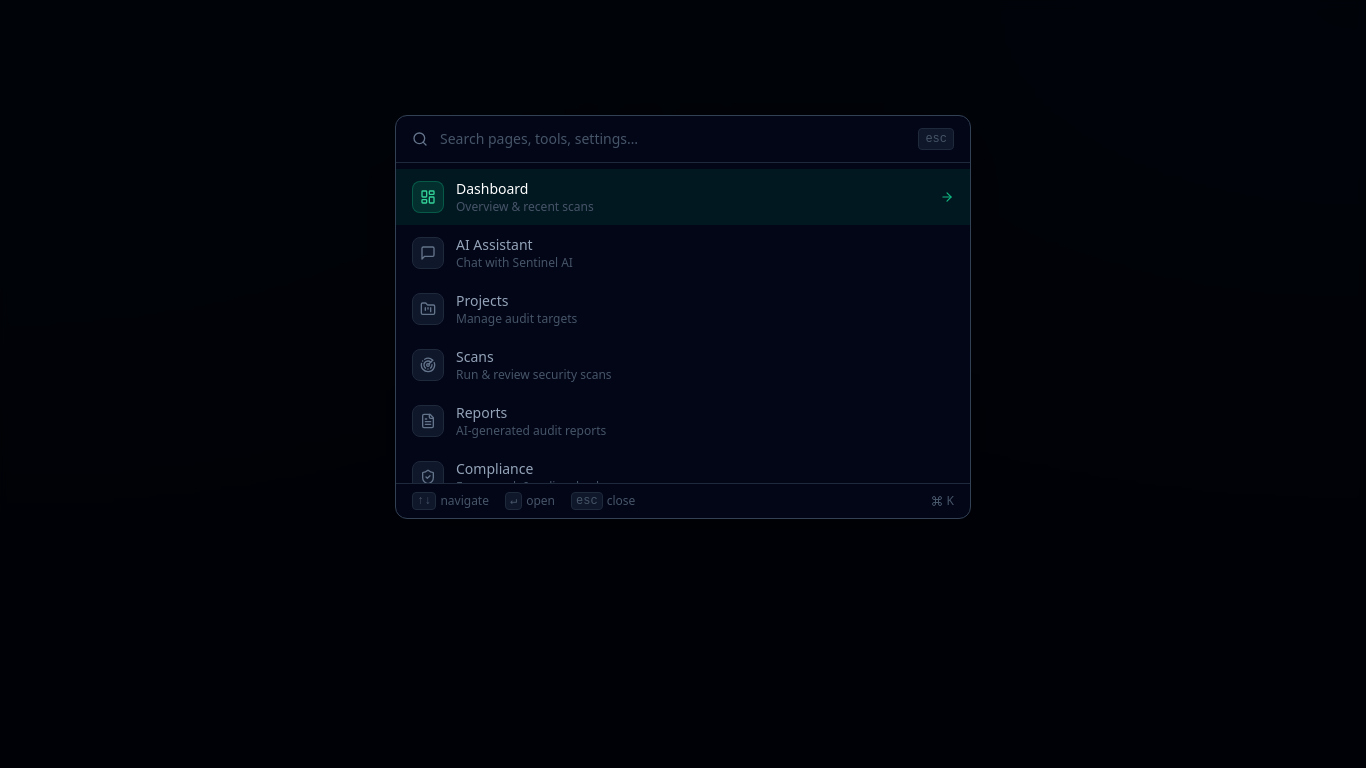
Test case: CommandPalette — filtering › shows "No results" when no match
Type "xyzxyzxyz" into the field with placeholder "Search pages, tools, settings…" at coordinates (673, 139), box [440, 129, 906, 149]
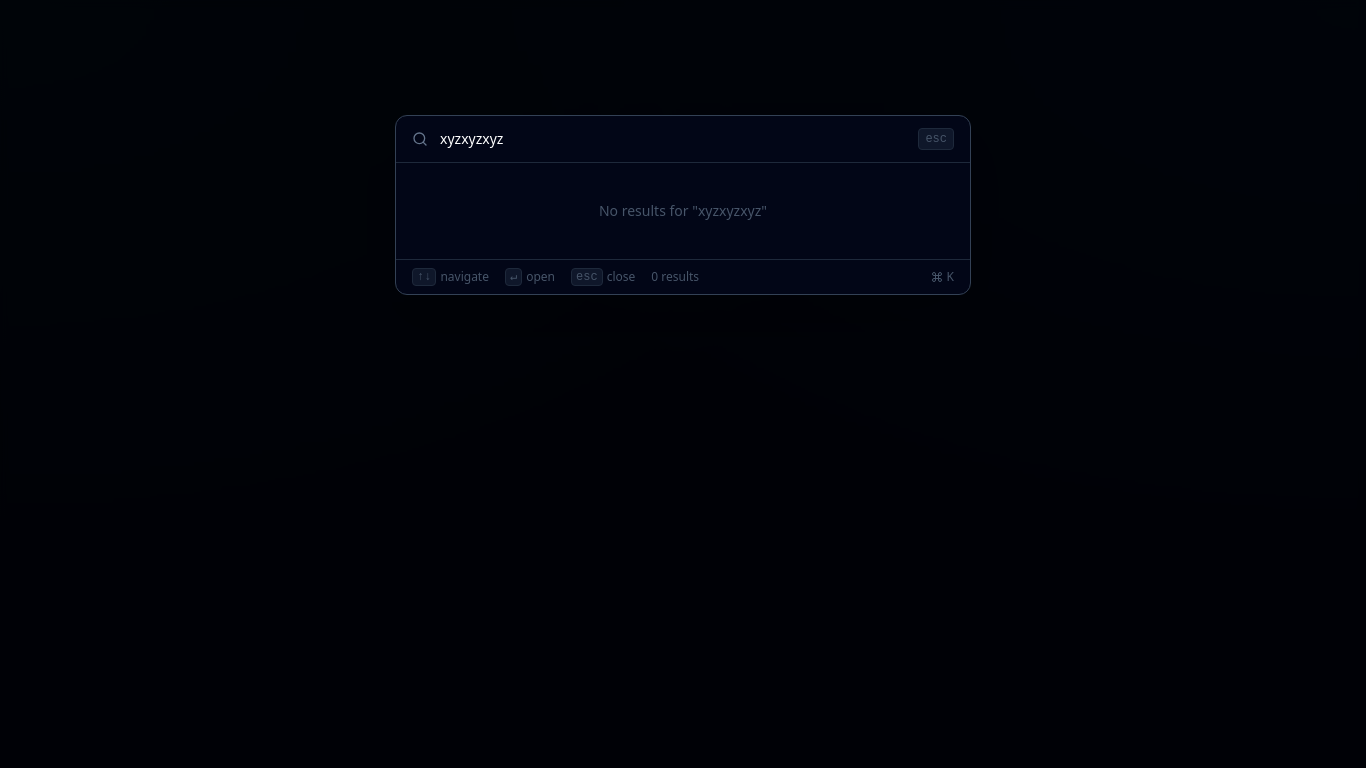
Expected: the text "No results for \"xyzxyzxyz\"" is shown, [599, 201, 767, 220]
